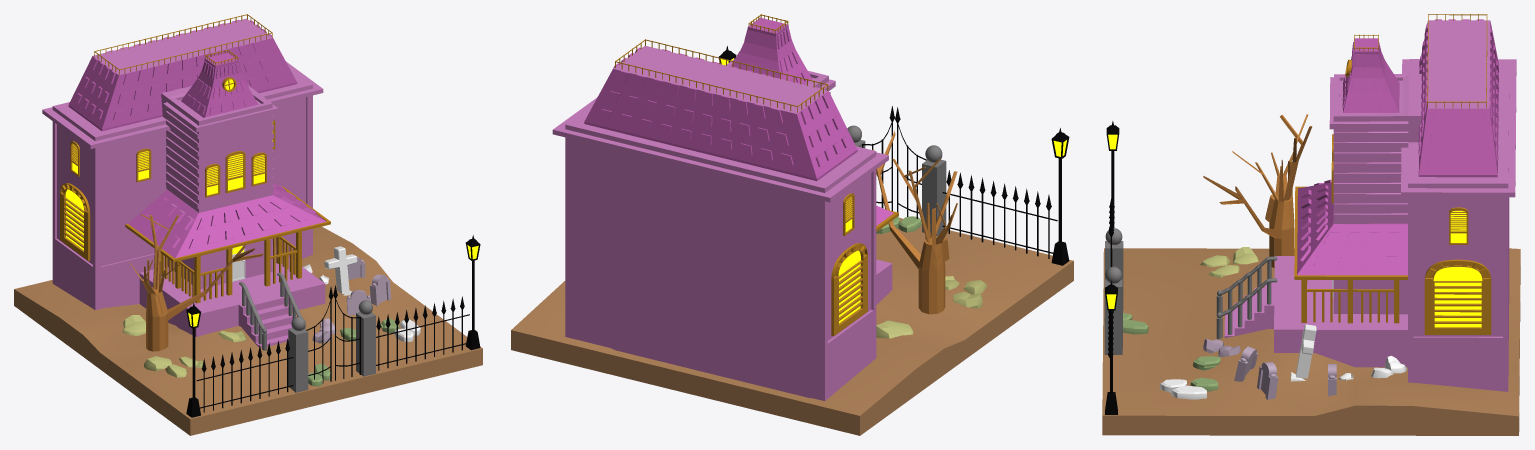
Rendered from house.glb.
The picture shows the model from 3 angles, left to right: view 1: azimuth 30°, elevation 25°; view 2: azimuth 150°, elevation 25°; view 3: azimuth 270°, elevation 25°; orthographic projection. The views are drawn at different scales.
Parts seen in each view (by area): view 1: Box071, Box007, bigRoof, ShadeRoof, topRoof, Cylinder193, Box625, Box004, Box032, Cylinder048, Box072, Box295 (+4 smaller); view 2: Box071, Box007, bigRoof, Cylinder193, topRoof, Box625, Box004, Object017_02 - Default_0, Box063; view 3: Box071, Box007, ShadeRoof, bigRoof, Cylinder193, topRoof, Box624, Object016_02 - Default_0, Cylinder048, Box032, Box072, Box075 (+6 smaller).
Boxes of the visible parts, x1,y1,x2,y2 form: Box071: (42,18,325,347); Box007: (14,226,482,435); bigRoof: (68,20,297,131); ShadeRoof: (128,183,326,257); topRoof: (181,52,258,117); Cylinder193: (129,214,263,351); Box625: (60,183,90,260); Box004: (288,328,308,392); Box032: (356,312,375,376); Cylinder048: (239,272,305,350); Box072: (324,246,357,295); Box295: (173,220,330,262); Box071: (552,46,892,400); Box007: (511,218,1073,435); bigRoof: (584,47,857,180); Cylinder193: (872,130,957,314); topRoof: (731,18,812,84); Box625: (831,243,867,336); Box004: (922,159,946,235); Object017_02 - Default_0: (838,250,860,323); Box063: (876,320,913,338); Box071: (1224,20,1516,391); Box007: (1102,248,1520,435); ShadeRoof: (1297,180,1407,275); bigRoof: (1418,19,1498,177); Cylinder193: (1203,114,1312,268); topRoof: (1342,38,1399,112); Box624: (1424,259,1491,334); Object016_02 - Default_0: (1433,267,1482,327); Cylinder048: (1216,256,1277,339); Box032: (1104,279,1122,354); Box072: (1290,324,1316,381); Box075: (1257,362,1278,399).
Bounding box in the file's own units: 0.6441 × 0.5522 × 0.6775.
